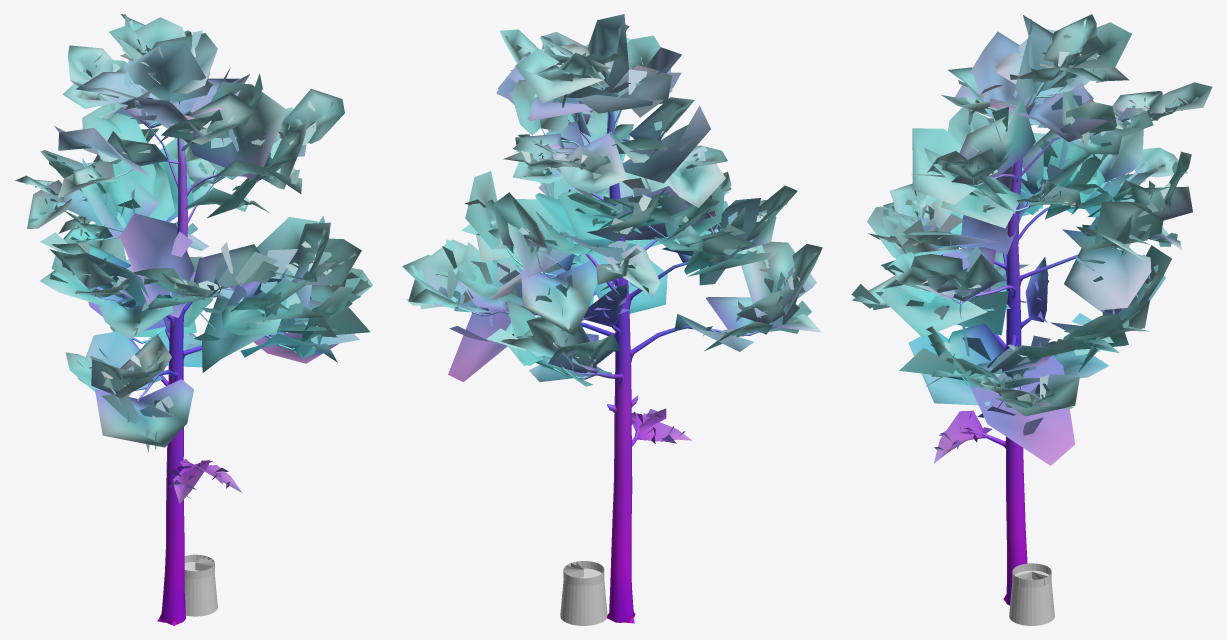
The model's file is KIT_PineBig2.fbx.
The picture shows the model from 3 angles, left to right: view 1: azimuth 30°, elevation 25°; view 2: azimuth 150°, elevation 25°; view 3: azimuth 270°, elevation 25°; orthographic projection. The views are drawn at different scales.
Parts seen in each view (by area): view 1: Upper_LOD0, Stump_LOD0; view 2: Upper_LOD0, Stump_LOD0; view 3: Upper_LOD0, Stump_LOD0.
Boxes of the visible parts, <box> form: Upper_LOD0: <box>15,14,373,625</box>; Stump_LOD0: <box>184,562,217,616</box>; Upper_LOD0: <box>402,14,822,623</box>; Stump_LOD0: <box>560,568,607,625</box>; Upper_LOD0: <box>851,14,1212,605</box>; Stump_LOD0: <box>1009,570,1054,625</box>.
Size of what is drawn, in the model's own units: 920 by 1496 by 838.
